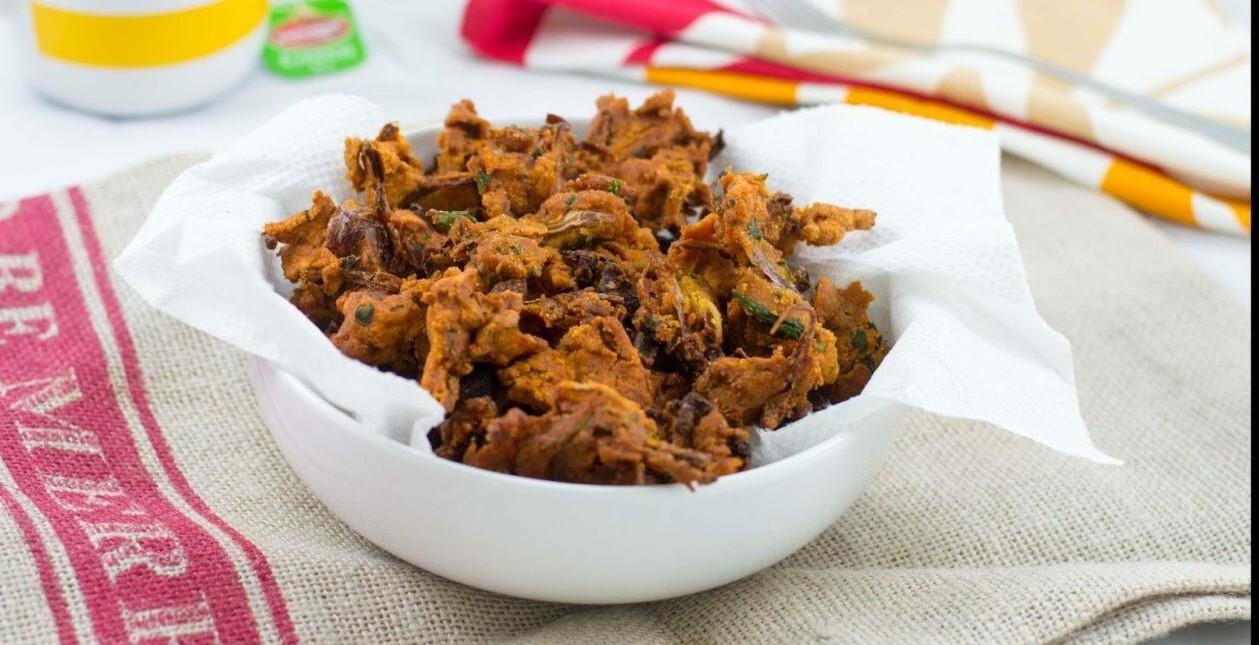OnionPakoda: (265, 86, 883, 492)
